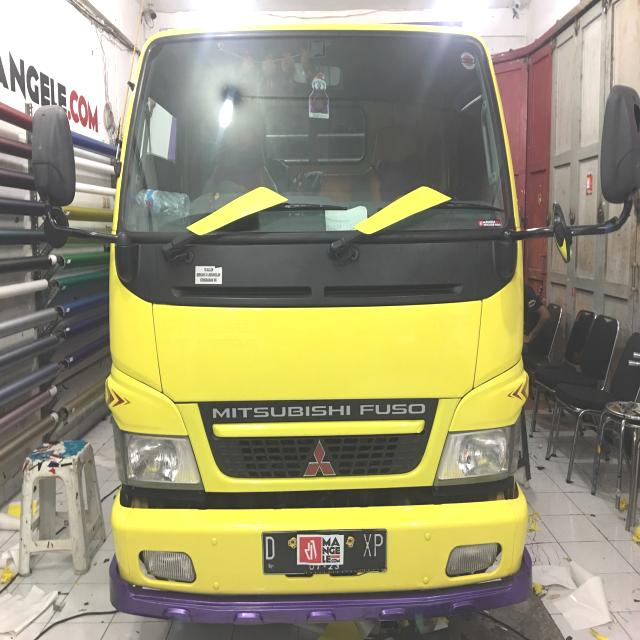truck: (35, 10, 640, 640)
